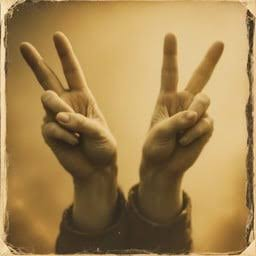peace_sign: (140, 29, 227, 173)
